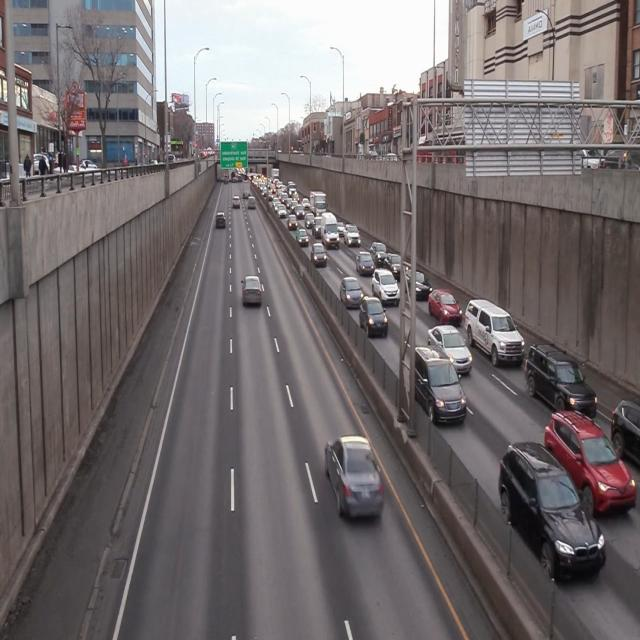Vehicle: (494, 442, 603, 582), (544, 405, 636, 517), (522, 344, 600, 420), (319, 440, 387, 524), (401, 348, 467, 423), (464, 302, 524, 364), (423, 324, 473, 373), (428, 286, 462, 324), (360, 296, 388, 338), (372, 269, 400, 306), (403, 268, 432, 302), (339, 277, 363, 311), (384, 253, 408, 280), (356, 250, 374, 276)
